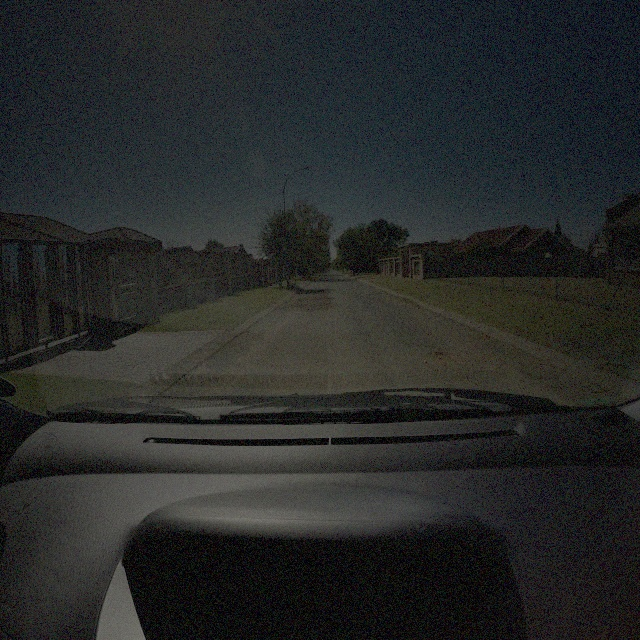pothole: (430, 349, 456, 363), (320, 295, 336, 301), (304, 303, 317, 310)
